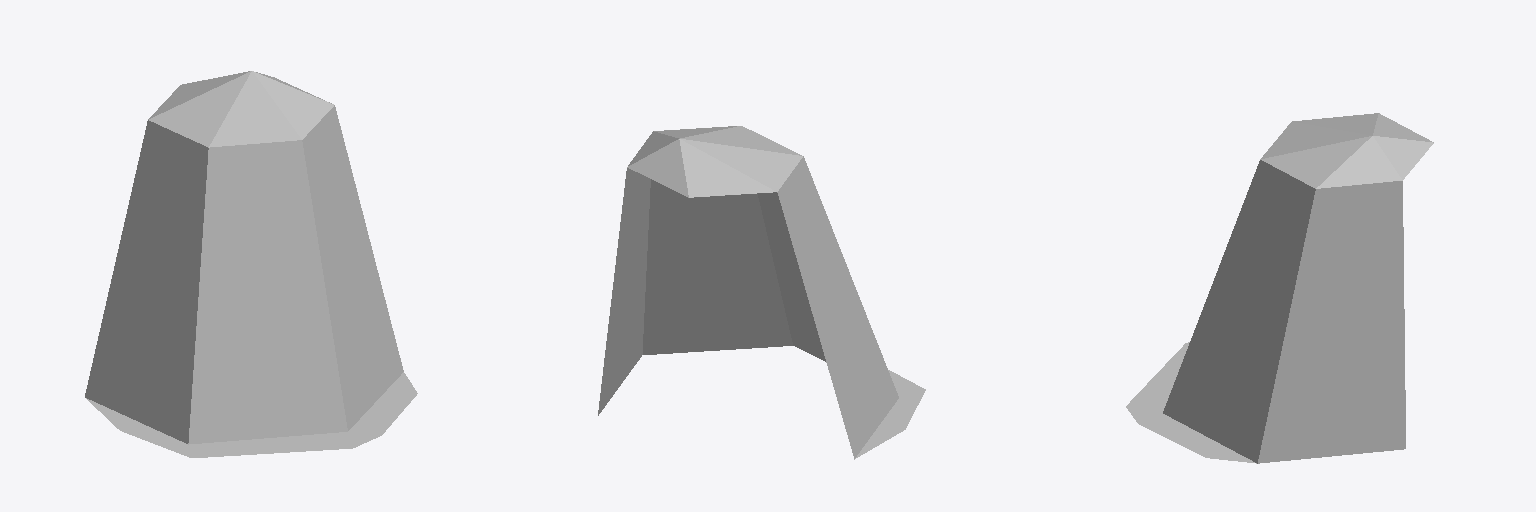
File: Rock.obj
The picture shows the model from 3 angles: view 1: azimuth 30°, elevation 25°; view 2: azimuth 150°, elevation 25°; view 3: azimuth 270°, elevation 25°; orthographic projection.
Parts seen in each view (by area): view 1: polygon1, polygon0; view 2: polygon1, polygon0; view 3: polygon1, polygon0.
Boxes of the visible parts, x1=… form: polygon1: x1=85, y1=71, x2=403, y2=444; polygon0: x1=86, y1=372, x2=417, y2=457; polygon1: x1=598, y1=126, x2=898, y2=458; polygon0: x1=854, y1=370, x2=925, y2=459; polygon1: x1=1163, y1=113, x2=1433, y2=463; polygon0: x1=1126, y1=342, x2=1256, y2=463.
Bounding box in the file's own units: 31.74 × 31.27 × 31.04.